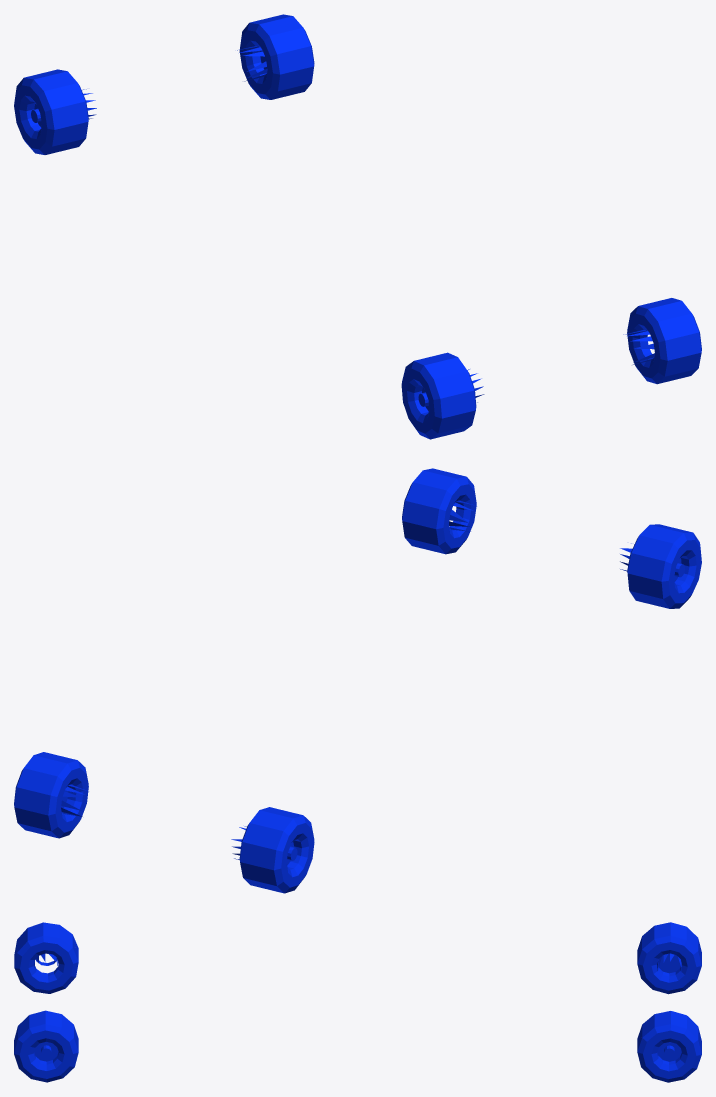
Rendered from blue.glb.
The picture shows the model from 3 angles, top to bottom: view 1: azimuth 30°, elevation 25°; view 2: azimuth 150°, elevation 25°; view 3: azimuth 270°, elevation 25°; orthographic projection. The views are drawn at different scales.
Parts seen in each view (by area): view 1: WheelFR, WheelRR, WheelFL, WheelRL; view 2: WheelFR, WheelRR, WheelFL, WheelRL; view 3: WheelRL, WheelFL, WheelFR, WheelRR.
Boxes of the visible parts, x1=… form: WheelFR: x1=14, y1=69, x2=96, y2=154; WheelRR: x1=401, y1=352, x2=484, y2=439; WheelFL: x1=237, y1=14, x2=314, y2=99; WheelRL: x1=623, y1=298, x2=701, y2=384; WheelFR: x1=231, y1=807, x2=314, y2=893; WheelRR: x1=620, y1=524, x2=701, y2=608; WheelFL: x1=14, y1=752, x2=88, y2=838; WheelRL: x1=402, y1=468, x2=476, y2=554; WheelRL: x1=14, y1=1010, x2=78, y2=1082; WheelFL: x1=637, y1=1011, x2=701, y2=1082; WheelFR: x1=637, y1=922, x2=701, y2=994; WheelRR: x1=14, y1=922, x2=78, y2=993.
Size of the model in its own units: 3.29 by 0.8599 by 9.13.
Materials: 1 (1 with a texture image).
